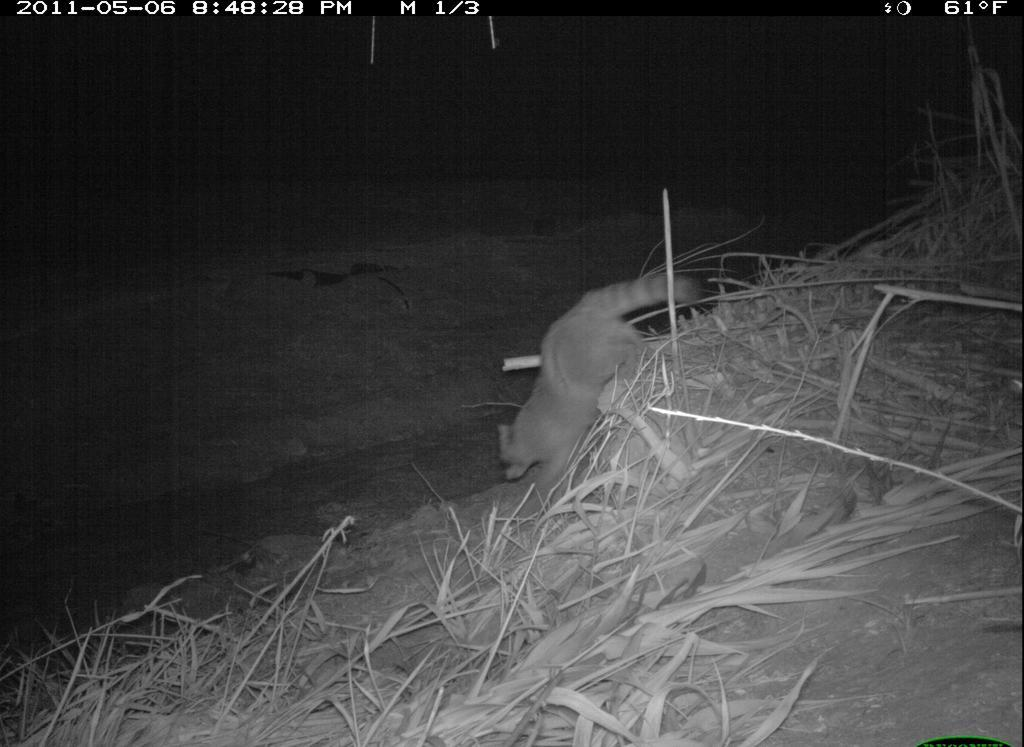raccoon: (492, 267, 701, 495)
